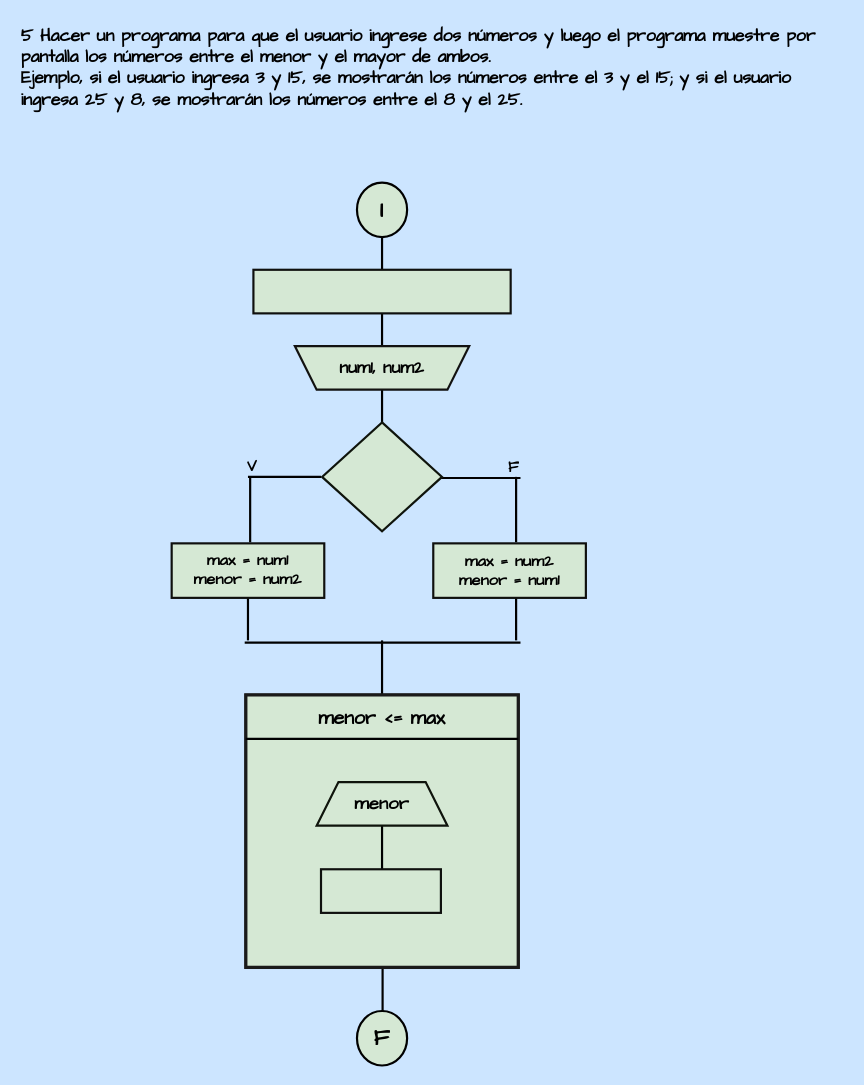
This 864x1085 diagram has some shape labels left out. Each missing label, with the centre of its shape:
"int num1, num2, max, menor" belongs at (x=381, y=291).
"menor++" belongs at (x=380, y=890).
"num1 > num2" belongs at (x=381, y=476).
